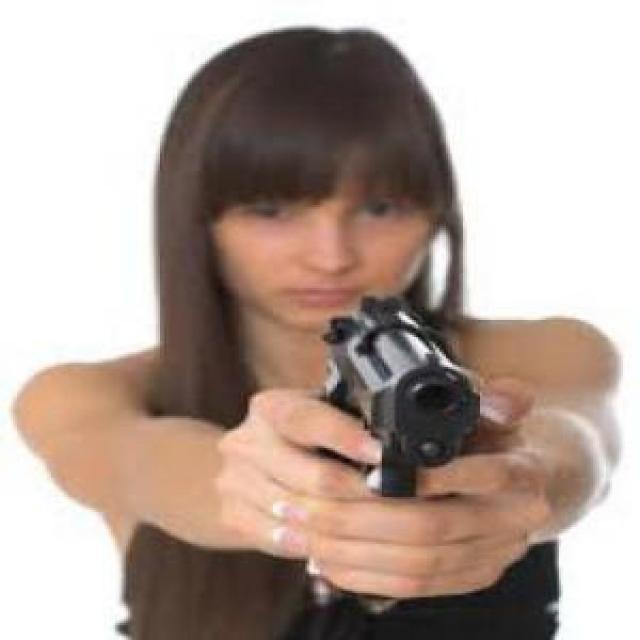pistol: (309, 292, 490, 617)
